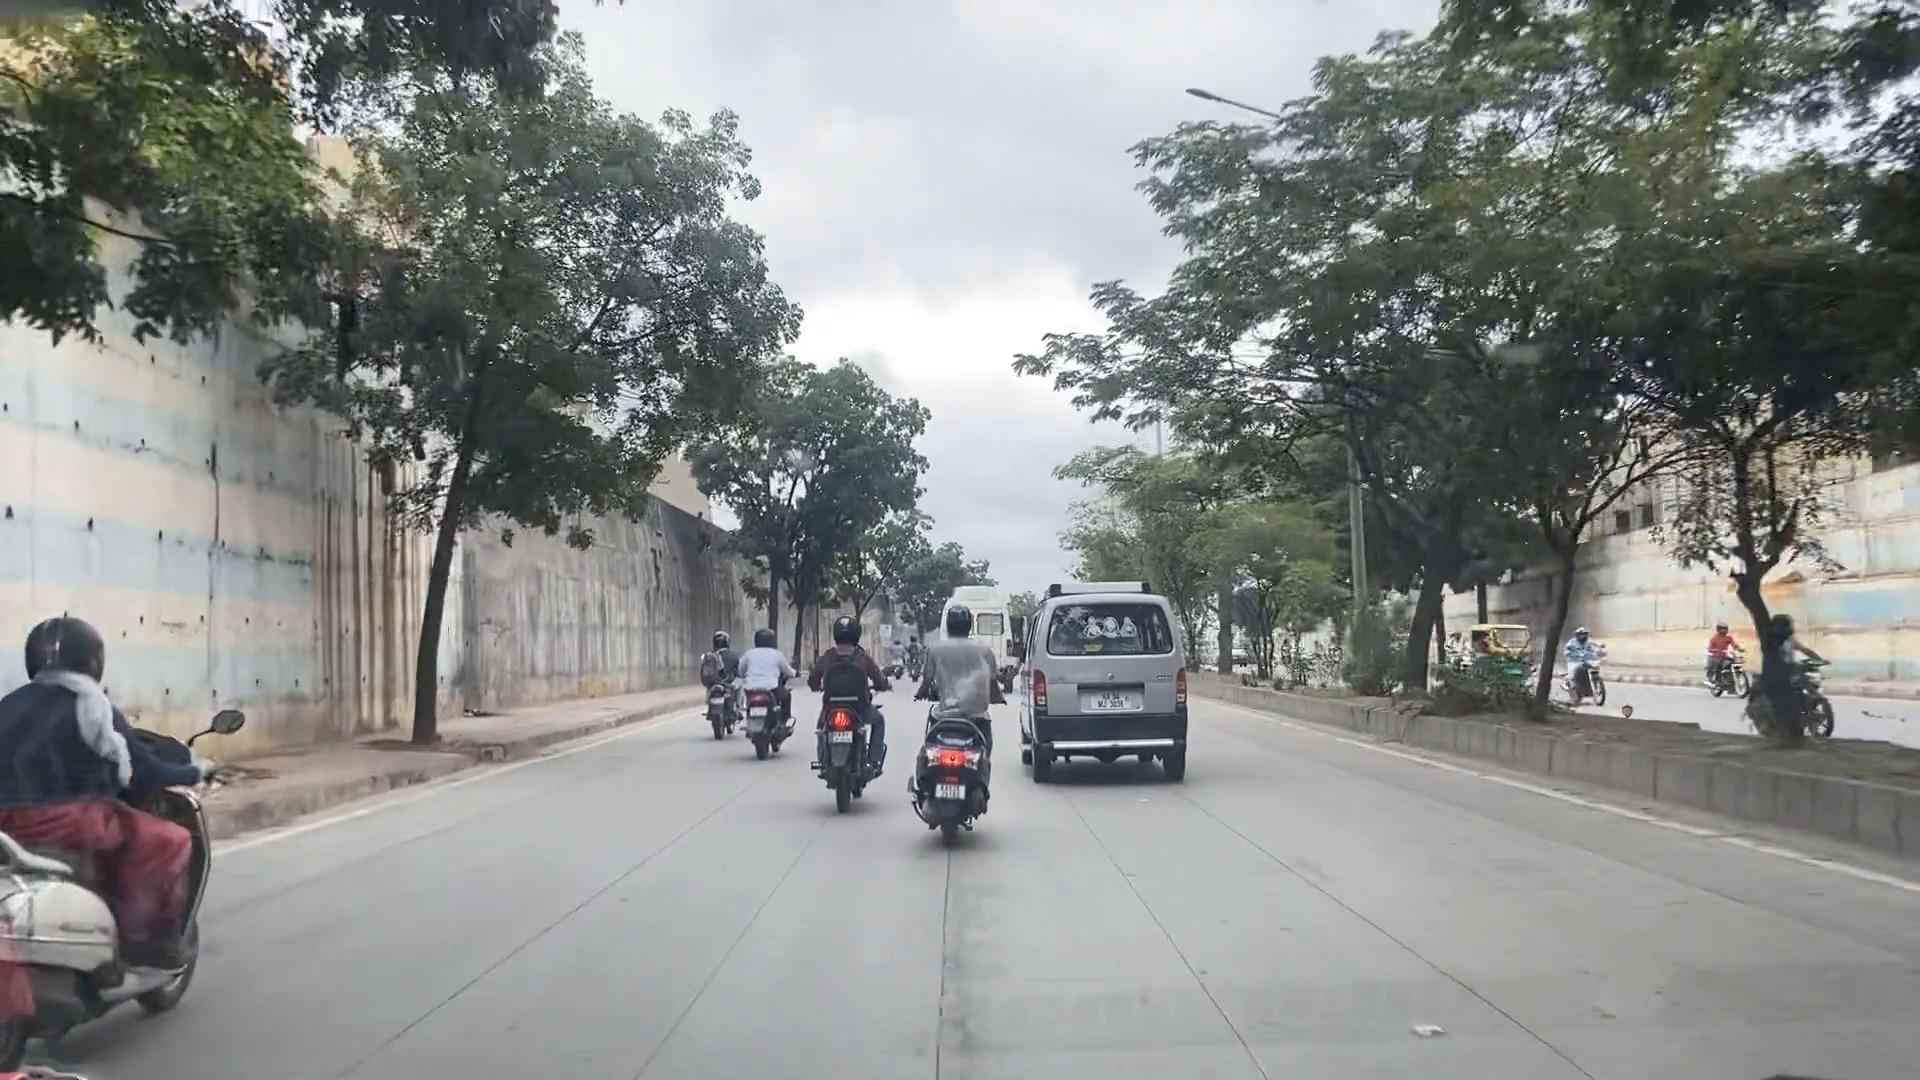LMV: (0, 616, 233, 1075), (1023, 574, 1225, 812), (795, 596, 903, 828), (909, 588, 1001, 858)
